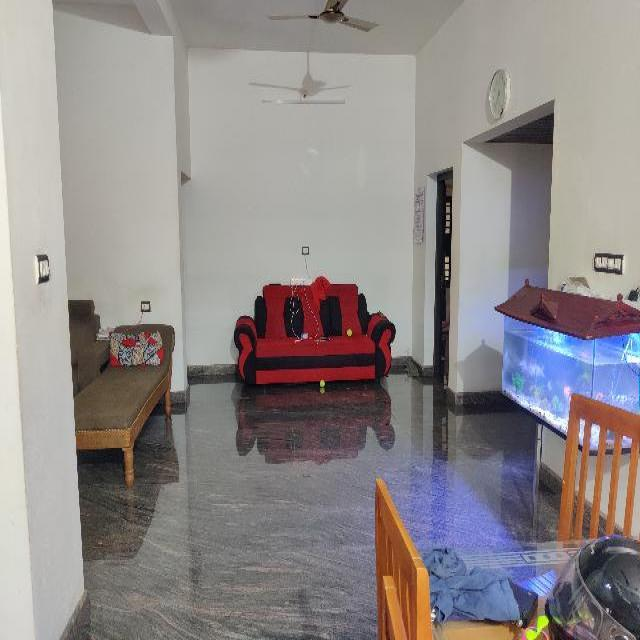tennis-ball: (347, 329, 352, 335), (320, 379, 325, 385)
